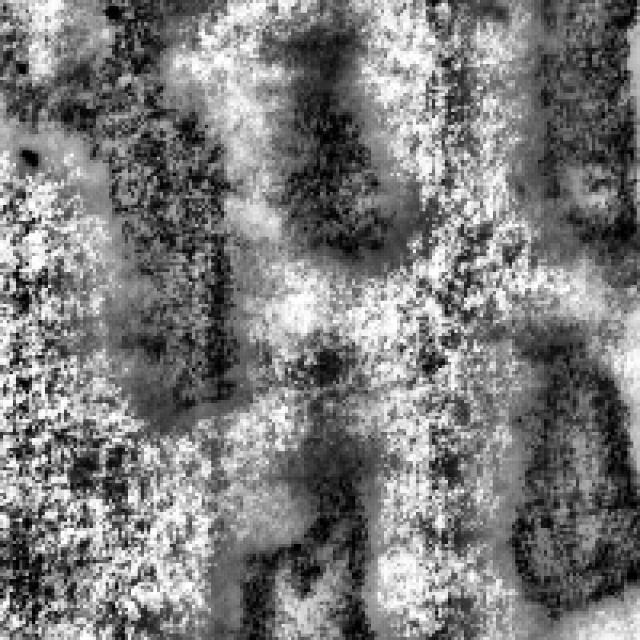Scratches: (29, 0, 240, 406), (499, 320, 637, 637), (256, 26, 403, 260), (218, 432, 380, 637), (518, 0, 636, 262)
